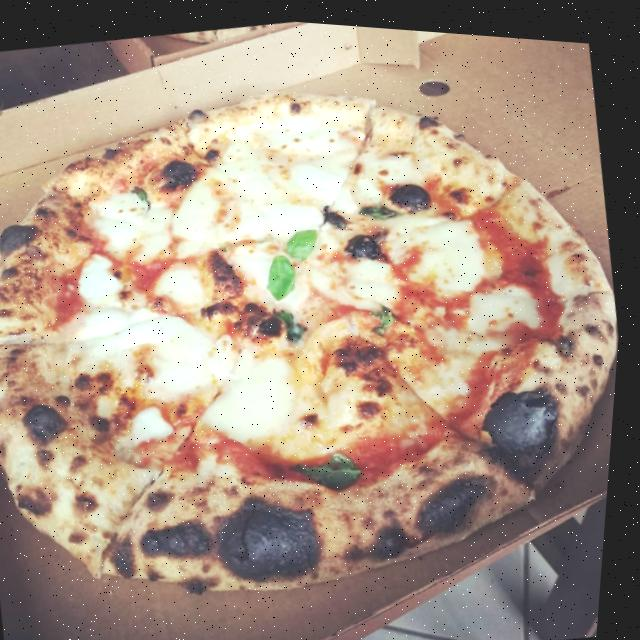basil: (297, 440, 376, 492), (265, 245, 304, 297), (284, 221, 326, 263), (276, 299, 318, 338), (131, 178, 163, 212), (361, 194, 399, 219), (378, 297, 401, 327)
pizza: (0, 13, 639, 640)
